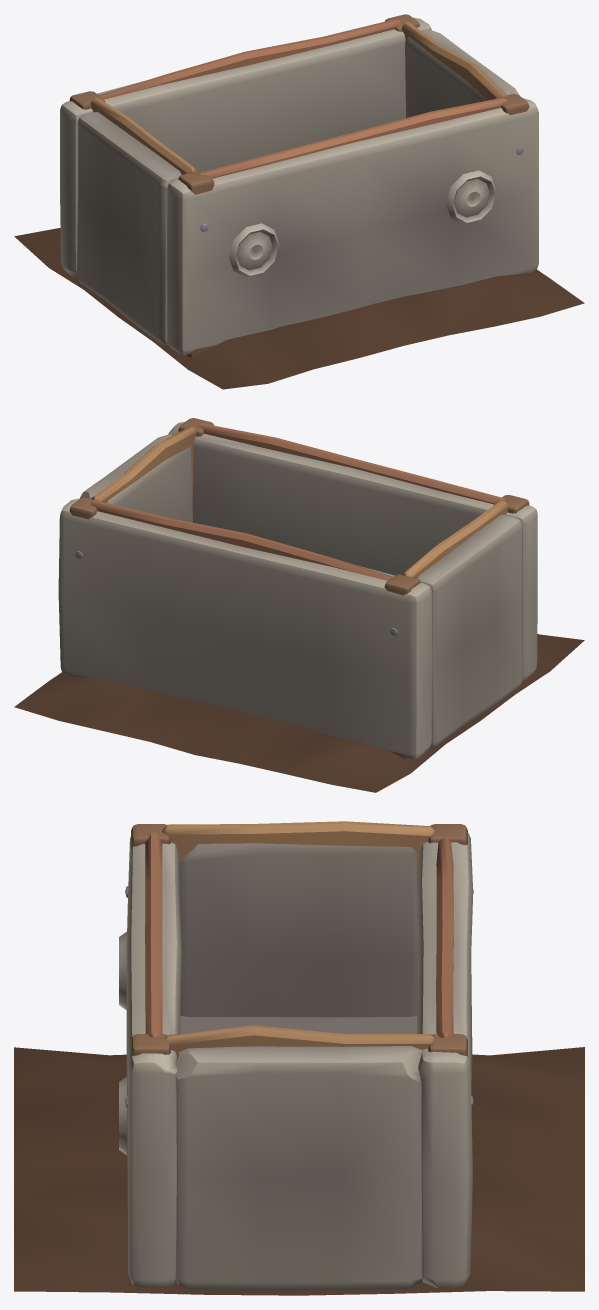
Rendered from pr_planter.glb.
The picture shows the model from 3 angles, top to bottom: view 1: azimuth 30°, elevation 25°; view 2: azimuth 150°, elevation 25°; view 3: azimuth 270°, elevation 25°; orthographic projection. The views are drawn at different scales.
Parts seen in each view (by area): view 1: PR_planter__stone, PR_planter__soil, PR_planter__wood; view 2: PR_planter__stone, PR_planter__soil, PR_planter__wood; view 3: PR_planter__stone, PR_planter__soil, PR_planter__wood.
Part boxes in pixels (left/top/right/bottom): PR_planter__stone: left=60, top=17, right=538, bottom=354; PR_planter__soil: left=14, top=227, right=584, bottom=389; PR_planter__wood: left=69, top=14, right=529, bottom=357; PR_planter__stone: left=58, top=421, right=537, bottom=758; PR_planter__soil: left=14, top=634, right=584, bottom=792; PR_planter__wood: left=69, top=418, right=529, bottom=759; PR_planter__stone: left=119, top=832, right=473, bottom=1290; PR_planter__soil: left=14, top=1047, right=584, bottom=1295; PR_planter__wood: left=125, top=821, right=473, bottom=1107.
Size of the model in its own units: 1.01 by 0.4932 by 1.
